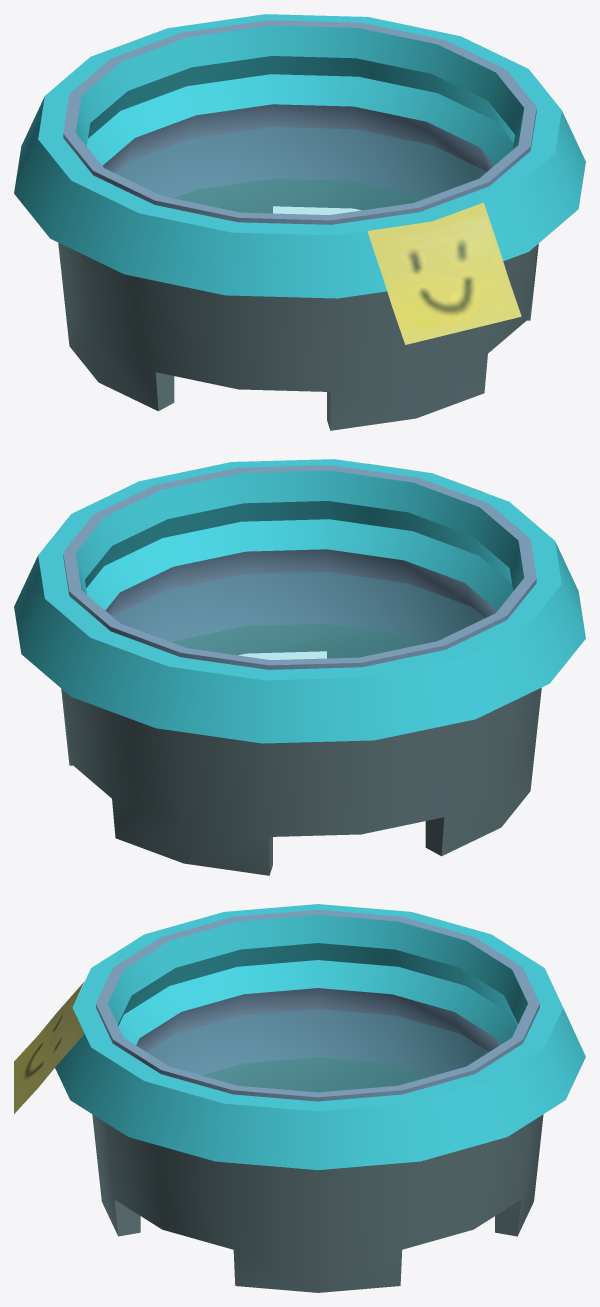
File: Glasses.fbx
3 views of the same model, one above another, from view 1: azimuth 30°, elevation 25°; view 2: azimuth 150°, elevation 25°; view 3: azimuth 270°, elevation 25° (orthographic). The views are drawn at different scales.
Parts seen in each view (by area): view 1: glasses; view 2: glasses; view 3: glasses.
Part boxes in pixels (x1=…): glasses: x1=14, y1=14, x2=585, y2=430; glasses: x1=14, y1=459, x2=585, y2=875; glasses: x1=14, y1=904, x2=585, y2=1292.
Size of the model in its own units: 2.48 by 1.01 by 2.65.
